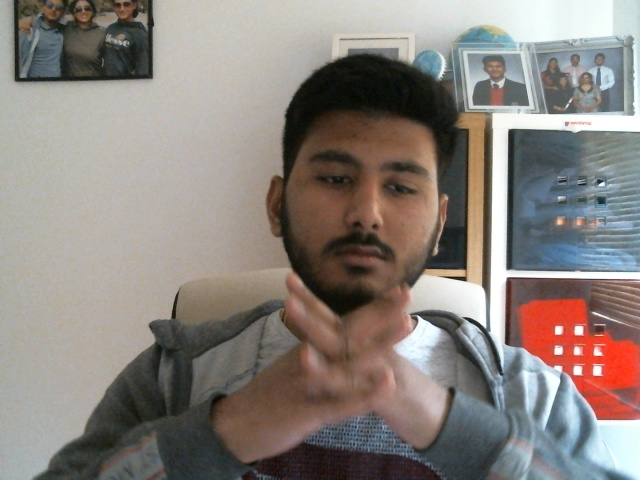how: (270, 271, 414, 426)
